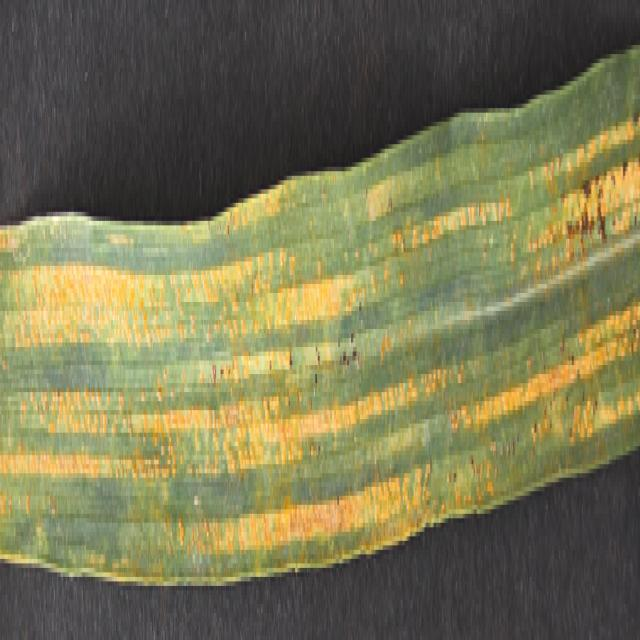leaf rust: (0, 135, 640, 572)
